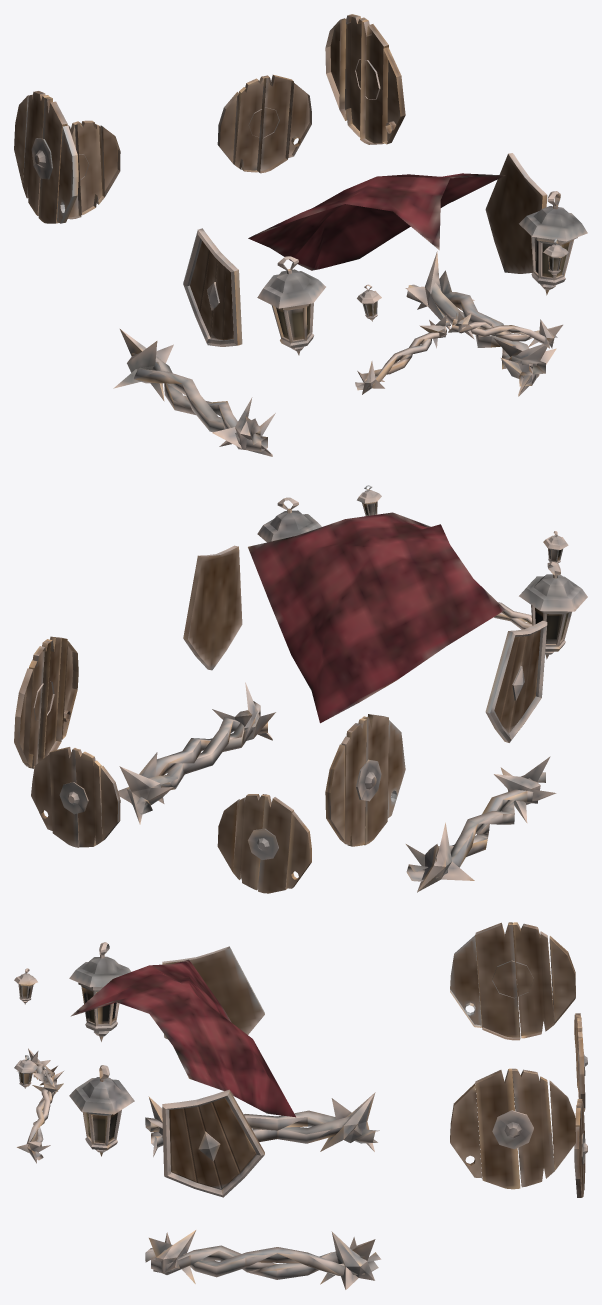
Rendered from Truck_v006_details.obj.
The picture shows the model from 3 angles, top to bottom: view 1: azimuth 30°, elevation 25°; view 2: azimuth 150°, elevation 25°; view 3: azimuth 270°, elevation 25°; orthographic projection. The views are drawn at different scales.
Visible parts, largest first — view 1: Truck_details; view 2: Truck_details; view 3: Truck_details.
Boxes of the visible parts, left/top/right/bottom form: Truck_details: left=14, top=14, right=587, bottom=456; Truck_details: left=14, top=485, right=587, bottom=893; Truck_details: left=14, top=922, right=587, bottom=1289.
Bounding box in the file's own units: 2.54 × 1.63 × 3.68.
